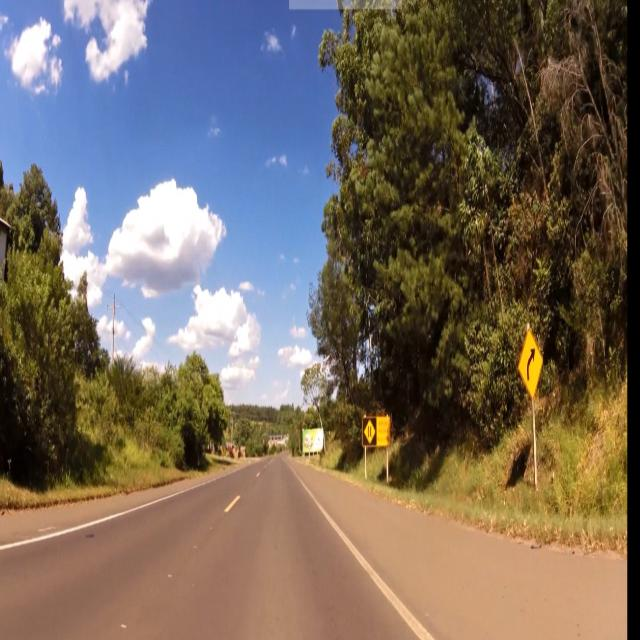A-2b: (518, 330, 543, 398)
